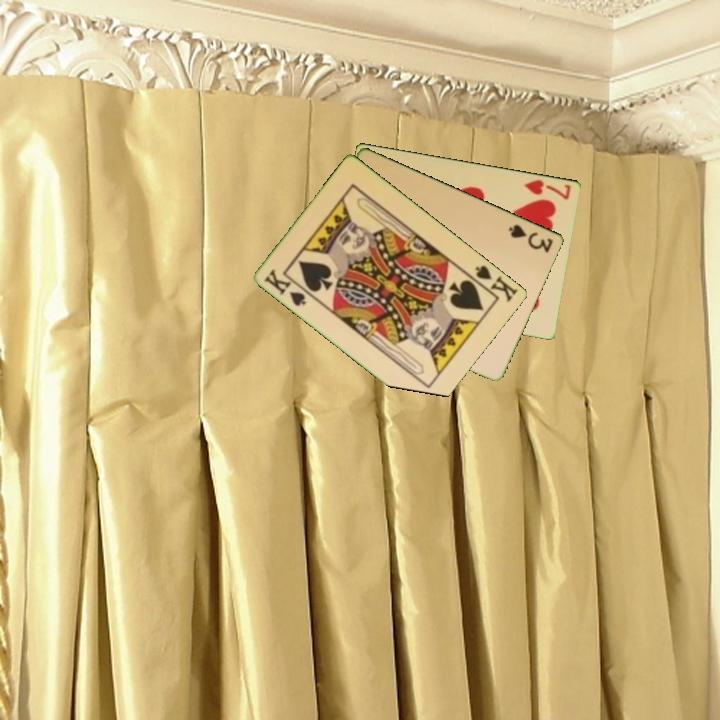3s: (505, 220, 556, 255)
7h: (521, 176, 574, 202)
Ks: (466, 262, 521, 305), (261, 265, 309, 309)
